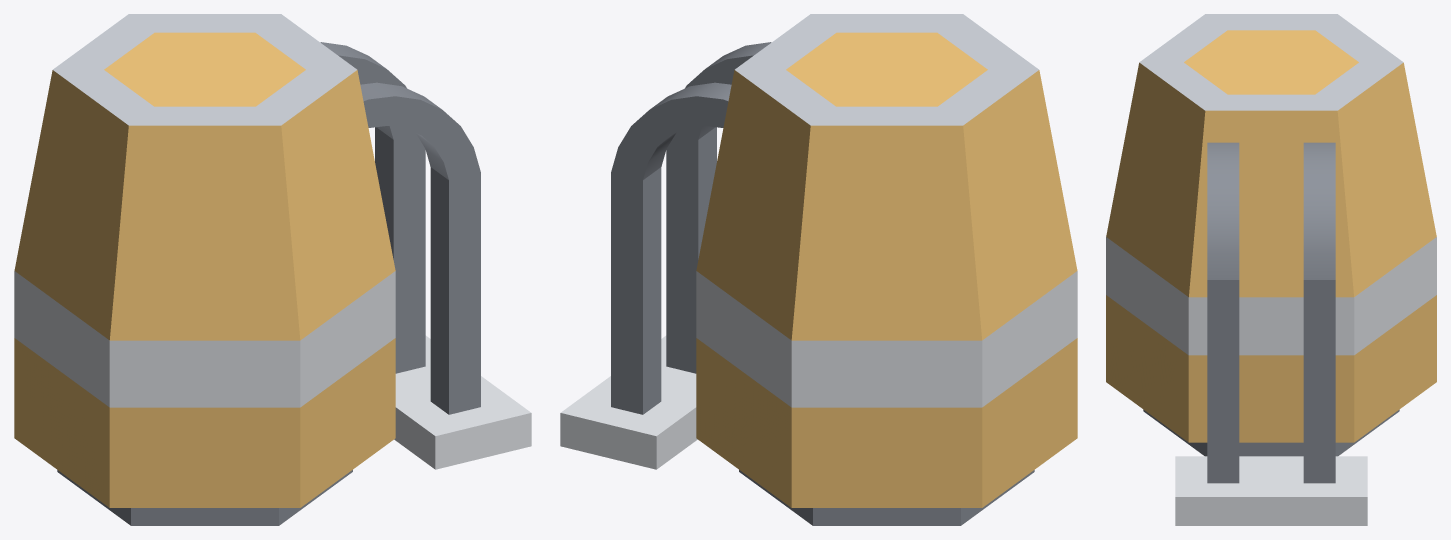
File: machine_barrel.glb
3 renders of one model, left to right at view 1: azimuth 30°, elevation 25°; view 2: azimuth 150°, elevation 25°; view 3: azimuth 270°, elevation 25°, orthographic. The views are drawn at different scales.
Parts seen in each view (by area): view 1: machine_barrel, cables; view 2: machine_barrel, cables; view 3: machine_barrel, cables.
Part boxes in pixels (x1,y1,x2,y2): machine_barrel: (14, 14, 395, 525); cables: (320, 42, 531, 469); machine_barrel: (696, 14, 1077, 525); cables: (560, 42, 771, 469); machine_barrel: (1106, 14, 1436, 456); cables: (1175, 142, 1367, 525).
Size of the model in its own units: 0.6464 by 0.6 by 0.5155.
